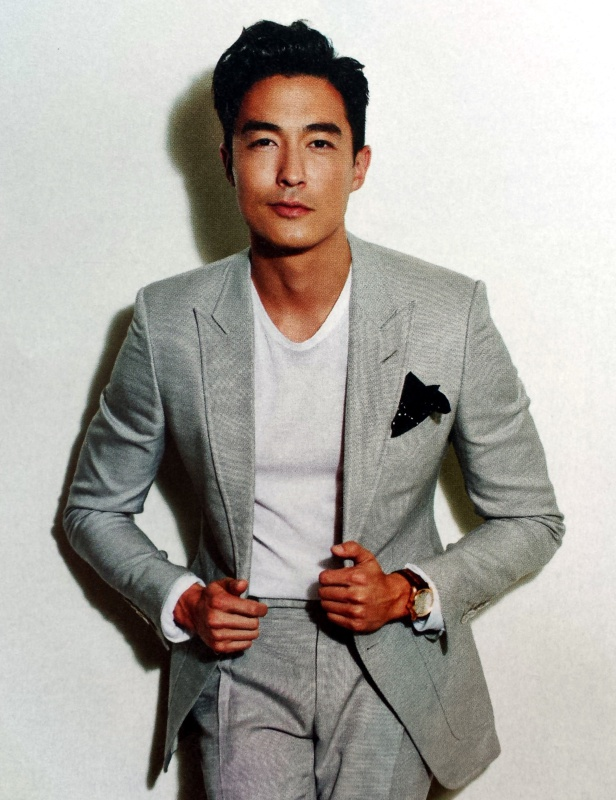male: (191, 19, 385, 265)
